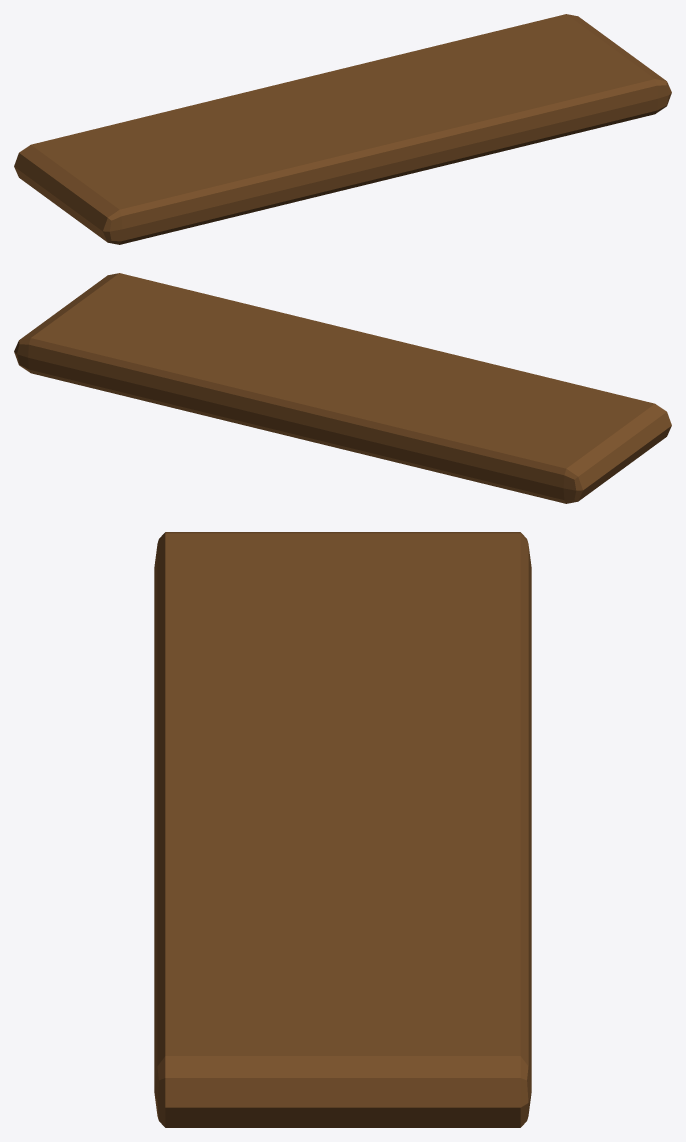
File: woodenPlank.fbx
The picture shows the model from 3 angles, top to bottom: view 1: azimuth 30°, elevation 25°; view 2: azimuth 150°, elevation 25°; view 3: azimuth 270°, elevation 25°; orthographic projection. The views are drawn at different scales.
Parts seen in each view (by area): view 1: Plane; view 2: Plane; view 3: Plane.
Part boxes in pixels (bbox=[...]): Plane: bbox=[14, 14, 671, 244]; Plane: bbox=[14, 273, 671, 503]; Plane: bbox=[154, 532, 531, 1127].
Size of the model in its own units: 200 by 11.84 by 57.45.
